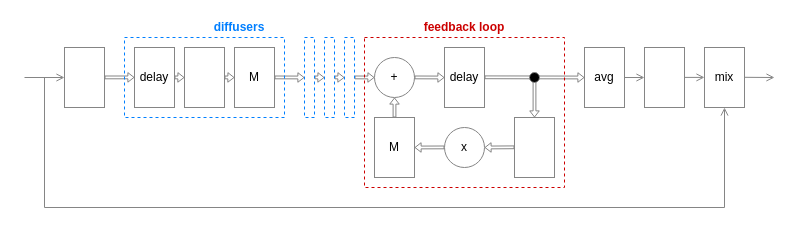
This 800x233 diagram has some shape labels left out. The centre of each missing label's shape, as x and y in pixels:
filter: (x=664, y=77)
filter (ToDo): (x=534, y=147)
shuffle: (x=204, y=77)
split: (x=84, y=77)
